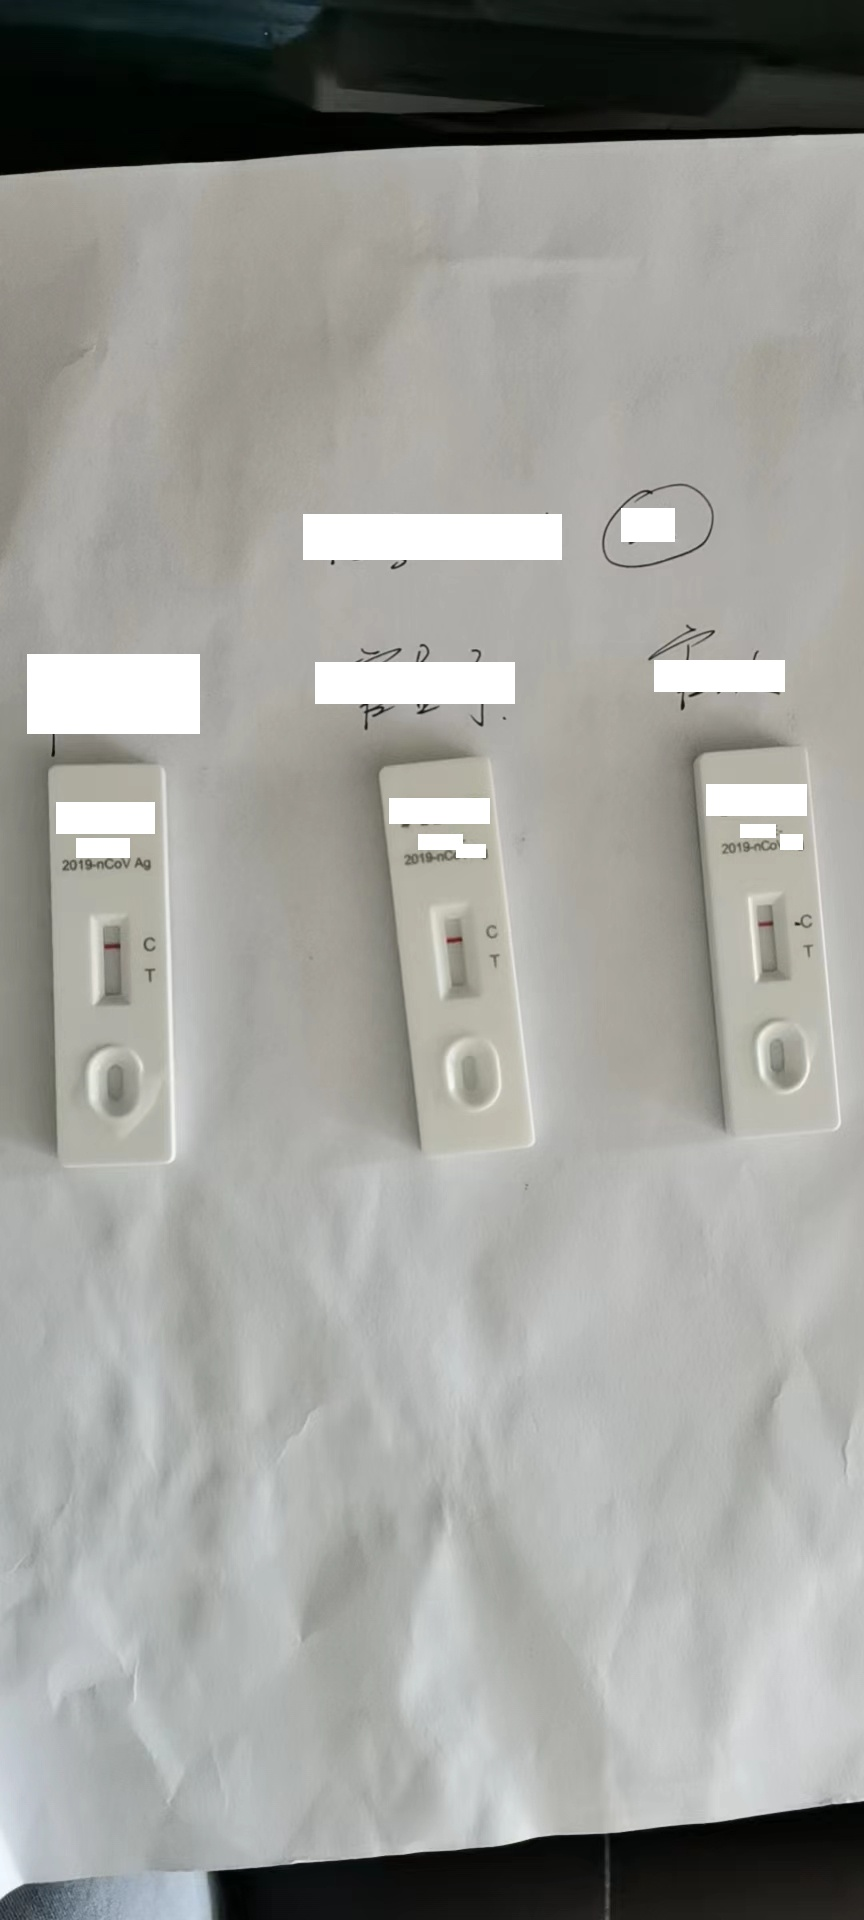negative: (428, 899, 479, 1000), (747, 889, 788, 977), (91, 912, 127, 1009)
